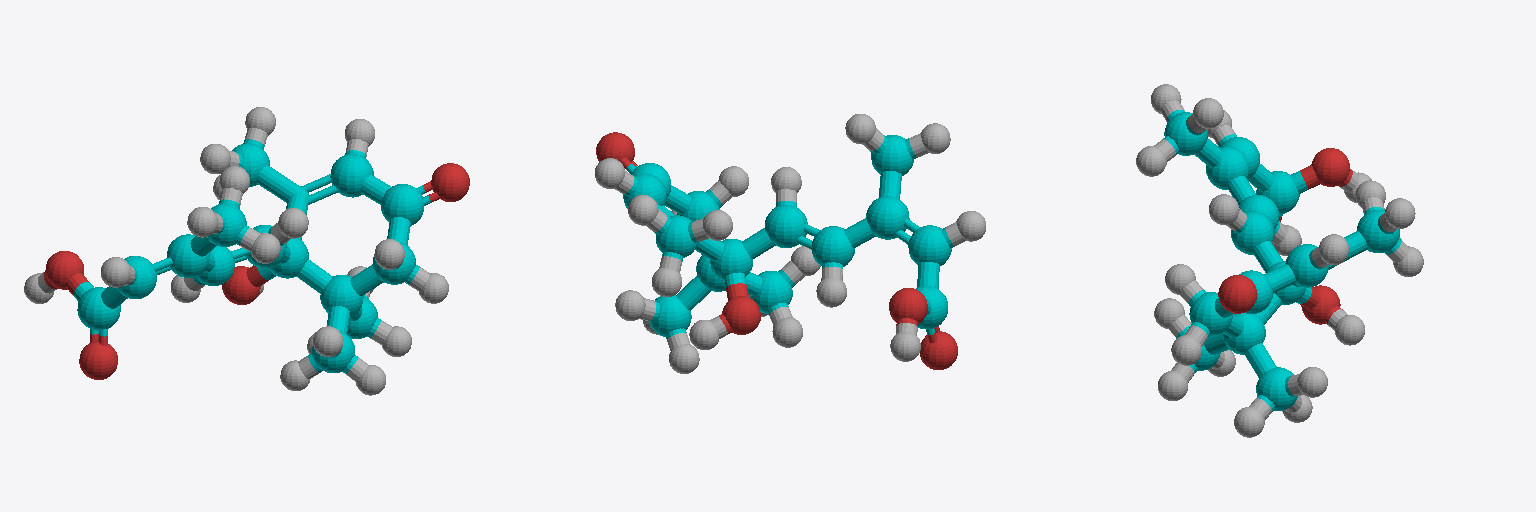
3 renders of one model, left to right at view 1: azimuth 30°, elevation 25°; view 2: azimuth 150°, elevation 25°; view 3: azimuth 270°, elevation 25°, orthographic.
Parts seen in each view (by area): view 1: ShapeCylinder; view 2: ShapeCylinder; view 3: ShapeCylinder.
Part boxes in pixels (x1,y1,x2,y2): ShapeCylinder: (24, 107, 469, 395); ShapeCylinder: (595, 114, 985, 373); ShapeCylinder: (1136, 84, 1423, 437).
Size of the model in its own units: 10.21 by 6.6 by 6.68.